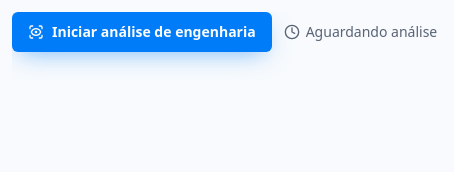
Test: Início de análise › não envia solicitação quando falta a imagem
Click the button: {"x": 142, "y": 32} [12,12,272,52]
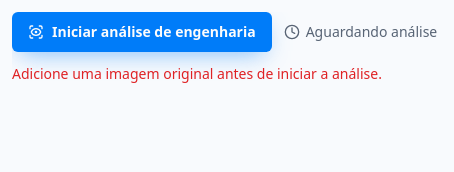
Expected: the message "Adicione uma imagem original antes de iniciar a análise." is shown, [12,64,382,83]
